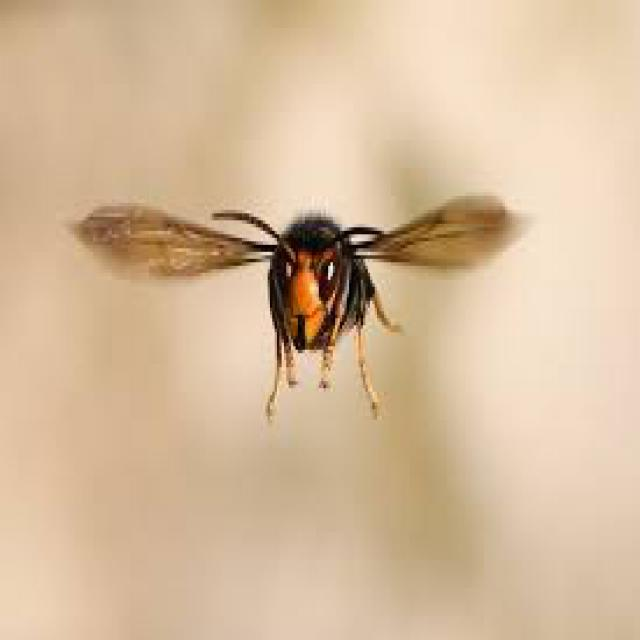Vespa Orientalis: (56, 120, 563, 460)
